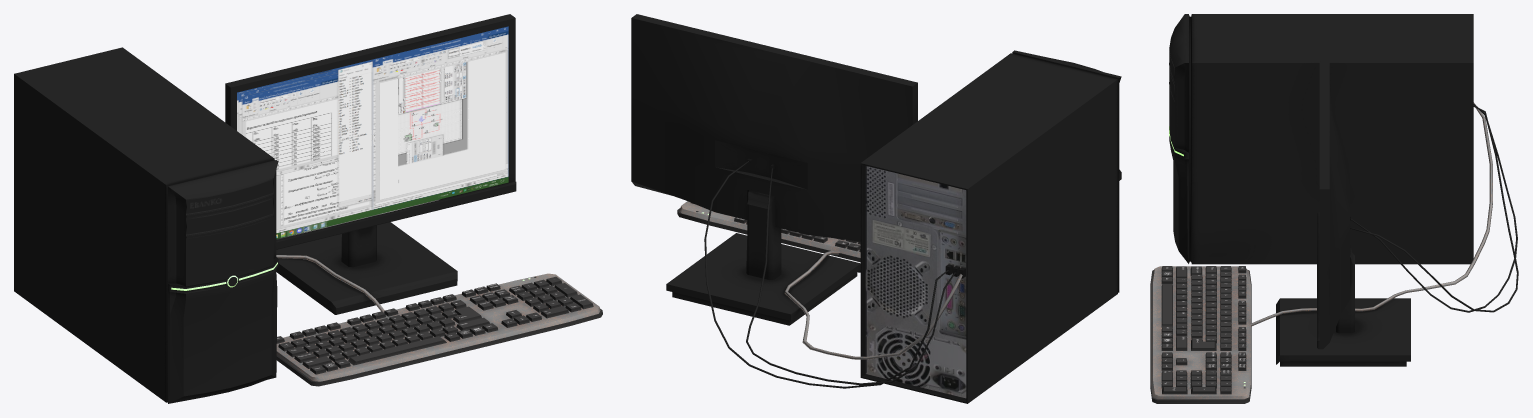
The model's file is pcgamingModel.glb.
3 views of the same model, side by side, from view 1: azimuth 30°, elevation 25°; view 2: azimuth 150°, elevation 25°; view 3: azimuth 270°, elevation 25° (orthographic). The views are drawn at different scales.
Visible parts, largest first — view 1: Cube; view 2: Cube; view 3: Cube.
Part boxes in pixels (box(x1,y1,x2,y2)): Cube: box(14, 14, 602, 403); Cube: box(631, 14, 1121, 403); Cube: box(1150, 14, 1518, 403).
Bounding box in the file's own units: 1.36 × 0.7227 × 1.12.
Materials: 4 (3 with a texture image).
